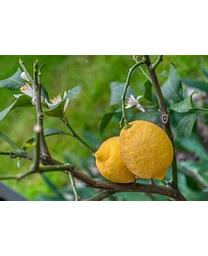lemon: (120, 122, 172, 180), (96, 136, 141, 183)
